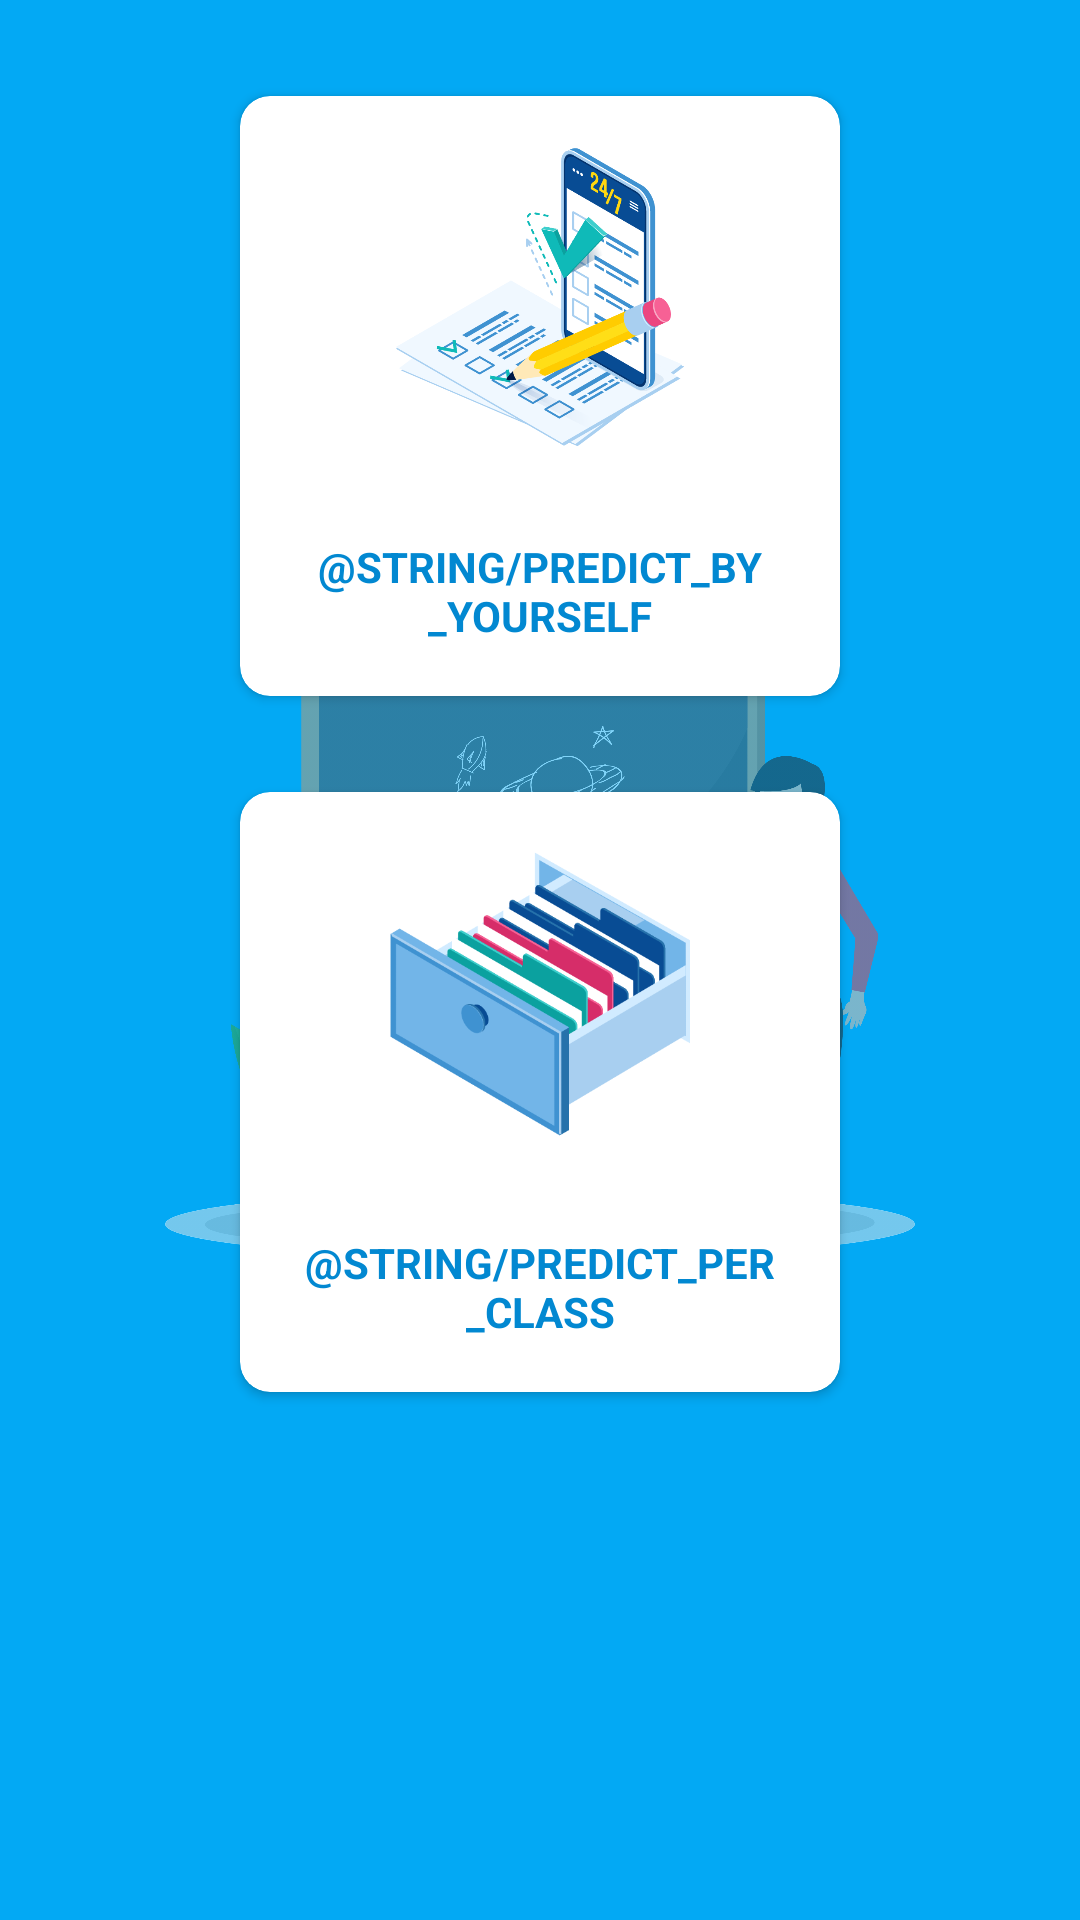

Icon click points for this 1080px×1920px phone screenshot, format point (x, y):
task: point (540, 297)
